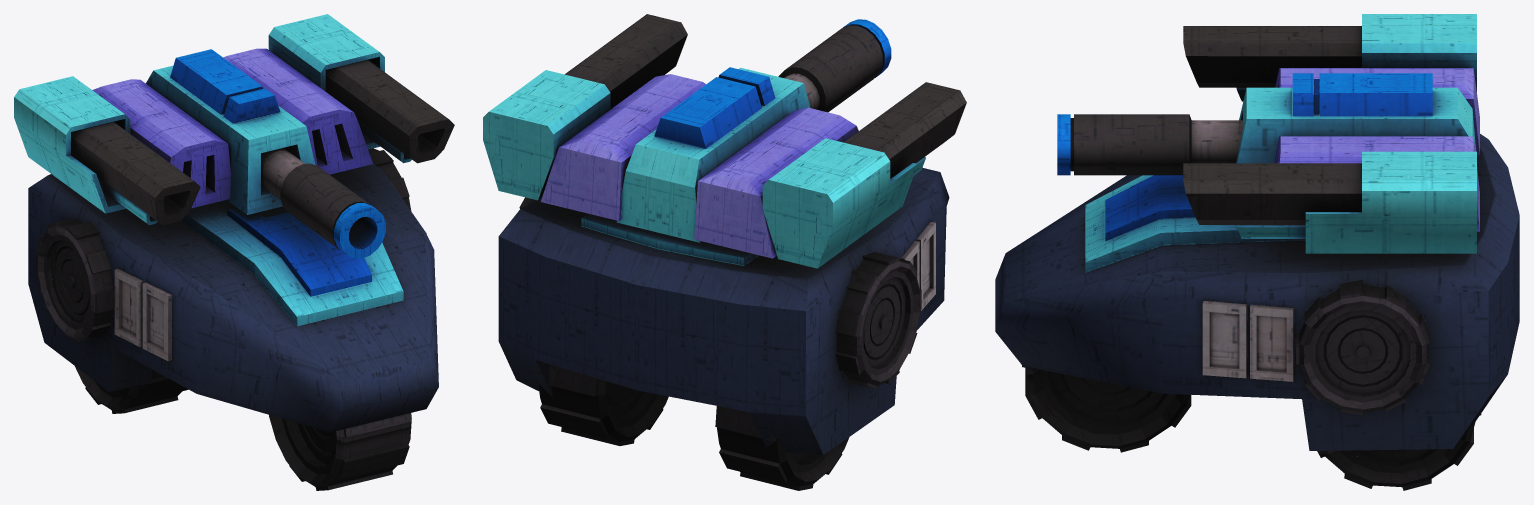
The model's file is PlayerA0.obj.
The picture shows the model from 3 angles, left to right: view 1: azimuth 30°, elevation 25°; view 2: azimuth 150°, elevation 25°; view 3: azimuth 270°, elevation 25°; orthographic projection. The views are drawn at different scales.
Visible parts, largest first — view 1: Object001, Object002, Object004, Object003; view 2: Object001, Object002, Object003; view 3: Object001, Object002, Object004, Object003.
Boxes of the visible parts, left/top/right/bottom form: Object001: left=28, top=48, right=438, bottom=432; Object002: left=14, top=14, right=454, bottom=225; Object004: left=269, top=413, right=411, bottom=490; Object003: left=75, top=366, right=188, bottom=413; Object001: left=498, top=19, right=949, bottom=454; Object002: left=483, top=14, right=966, bottom=268; Object003: left=536, top=364, right=849, bottom=490; Object001: left=995, top=68, right=1519, bottom=450; Object002: left=1183, top=14, right=1476, bottom=253; Object004: left=1022, top=365, right=1191, bottom=452; Object003: left=1317, top=412, right=1481, bottom=490.
Bounding box in the file's own units: 93.13 × 88.08 × 119.
1 material, 1 textured.
